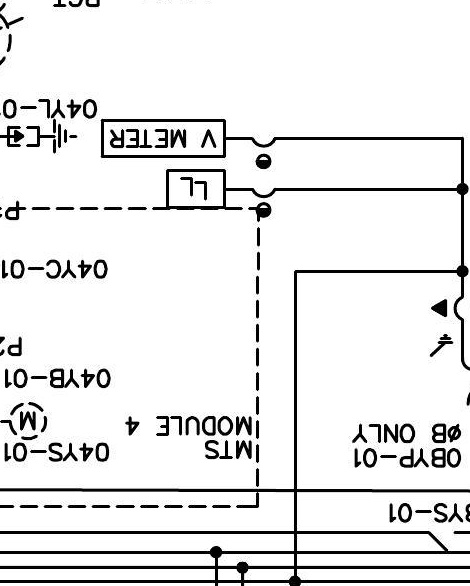115_ds: (428, 530, 458, 551)
LL: (165, 168, 227, 209)
v_m_digital: (100, 118, 227, 159)
